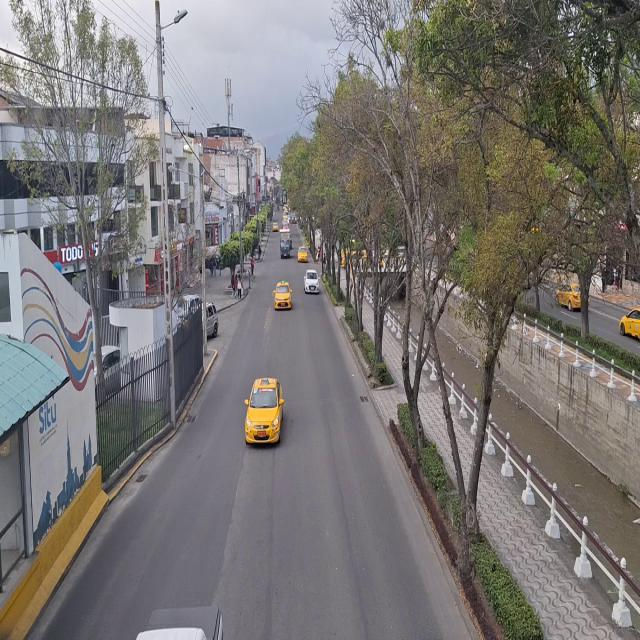SED: (248, 381, 284, 445), (274, 282, 292, 309)
